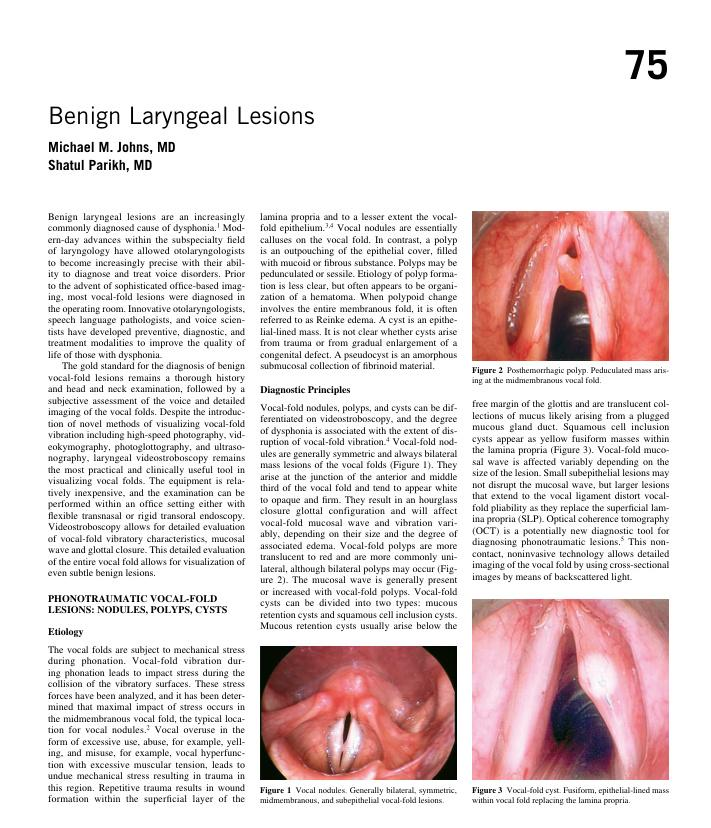caption: (471, 785, 671, 807), (471, 365, 670, 386), (259, 785, 458, 806)
chapter-heading: (48, 104, 316, 130)
image: (471, 598, 670, 781), (472, 210, 670, 361), (259, 645, 458, 781)
section-heading: (47, 593, 229, 616)
sub-section-heading: (259, 385, 351, 396), (47, 626, 84, 638)
text: (46, 212, 247, 580), (259, 403, 458, 632), (471, 398, 671, 583), (47, 644, 246, 806), (258, 211, 459, 371)
